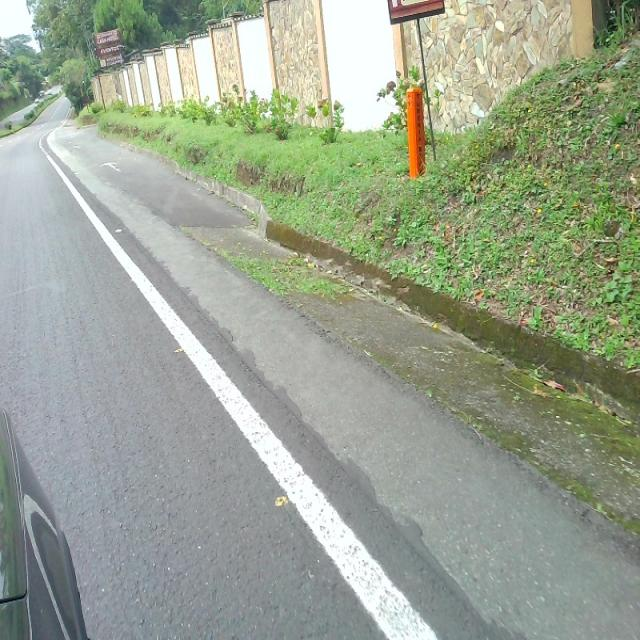DITCH: (18, 29, 626, 638), (41, 102, 638, 638)
